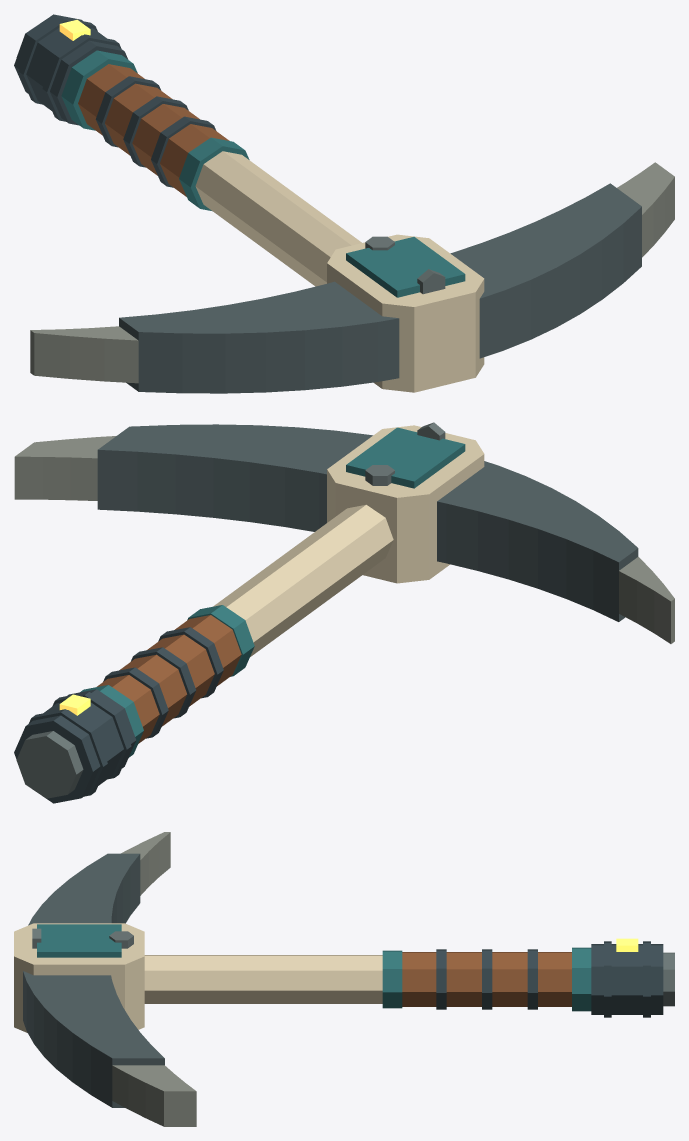
Rendered from pickaxe.glb.
3 views of the same model, one above another, from view 1: azimuth 30°, elevation 25°; view 2: azimuth 150°, elevation 25°; view 3: azimuth 270°, elevation 25° (orthographic). The views are drawn at different scales.
Visible parts, largest first — view 1: Tool pickaxe Tool head steel, Tool pickaxe Tool shell cream, Tool pickaxe Tool honed edge, Tool pickaxe Tool socket iron, Tool pickaxe Tool workshop teal, Tool pickaxe Tool grip wrap, Tool pickaxe Tool bright steel; view 2: Tool pickaxe Tool head steel, Tool pickaxe Tool shell cream, Tool pickaxe Tool socket iron, Tool pickaxe Tool honed edge, Tool pickaxe Tool grip wrap, Tool pickaxe Tool workshop teal, Tool pickaxe Tool bright steel; view 3: Tool pickaxe Tool shell cream, Tool pickaxe Tool head steel, Tool pickaxe Tool grip wrap, Tool pickaxe Tool socket iron, Tool pickaxe Tool honed edge, Tool pickaxe Tool workshop teal, Tool pickaxe Tool bright steel.
Boxes of the visible parts, bbox=[...] form: Tool pickaxe Tool head steel: bbox=[119, 183, 641, 393]; Tool pickaxe Tool shell cream: bbox=[195, 151, 484, 392]; Tool pickaxe Tool honed edge: bbox=[30, 162, 674, 383]; Tool pickaxe Tool socket iron: bbox=[14, 14, 216, 187]; Tool pickaxe Tool workshop teal: bbox=[61, 50, 465, 297]; Tool pickaxe Tool grip wrap: bbox=[78, 64, 229, 196]; Tool pickaxe Tool bright steel: bbox=[16, 33, 445, 294]; Tool pickaxe Tool head steel: bbox=[97, 424, 638, 621]; Tool pickaxe Tool shell cream: bbox=[213, 425, 484, 656]; Tool pickaxe Tool socket iron: bbox=[14, 627, 223, 803]; Tool pickaxe Tool honed edge: bbox=[14, 436, 674, 643]; Tool pickaxe Tool grip wrap: bbox=[97, 615, 241, 743]; Tool pickaxe Tool workshop teal: bbox=[80, 427, 465, 757]; Tool pickaxe Tool bright steel: bbox=[16, 422, 445, 798]; Tool pickaxe Tool shell cream: bbox=[14, 923, 382, 1032]; Tool pickaxe Tool head steel: bbox=[23, 853, 164, 1107]; Tool pickaxe Tool grip wrap: bbox=[402, 952, 571, 1006]; Tool pickaxe Tool socket iron: bbox=[436, 941, 663, 1017]; Tool pickaxe Tool honed edge: bbox=[112, 832, 196, 1126]; Tool pickaxe Tool workshop teal: bbox=[37, 924, 591, 1011]; Tool pickaxe Tool bright steel: bbox=[32, 928, 674, 1006].
Size of the model in its own units: 0.5568 by 0.0877 by 0.6.
